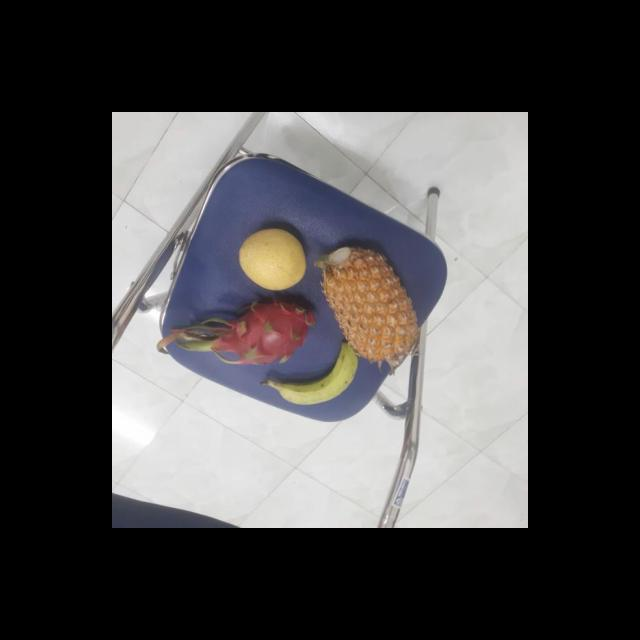banana: (270, 344, 362, 406)
pear: (236, 226, 309, 289)
pineapple: (314, 246, 422, 362)
pitaya: (208, 295, 320, 365)
